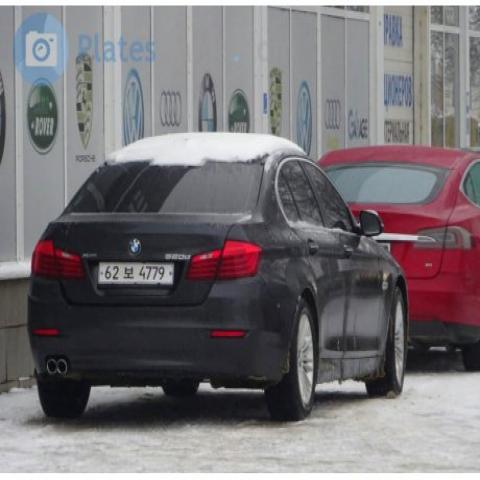LP: (90, 251, 183, 292)
